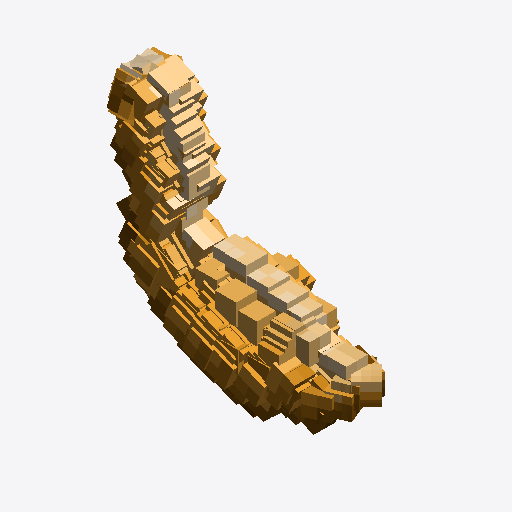
A Minecraft block model of 511 cuboids, rendered isometrically (azimuth 45°, elevation 35.3°) with the resource pack's own textures.
Visible parts, largest first — element 427, element 299, element 289, element 330, element 458, element 494, element 509, element 441, element 132, element 492, element 311, element 21 (+14 smaller).
Part boxes in pixels (x1,y1,x2,y2): element 427: (264, 356, 315, 404); element 299: (215, 278, 256, 326); element 289: (225, 241, 267, 283); element 330: (236, 300, 275, 345); element 458: (182, 217, 224, 260); element 494: (325, 342, 367, 380); element 509: (351, 364, 381, 406); element 441: (296, 322, 330, 366); element 132: (134, 203, 185, 243); element 492: (301, 386, 334, 423); element 311: (247, 263, 289, 305); element 21: (124, 77, 161, 121).
Size of the model in its own units: 9.2 by 21.76 by 22.93.